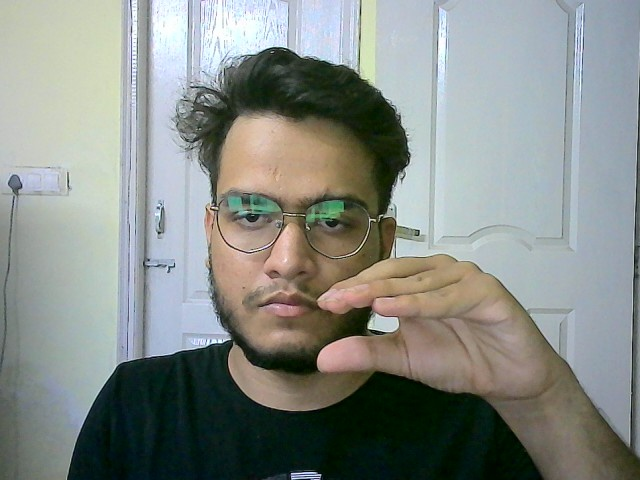No: (314, 251, 553, 398)
